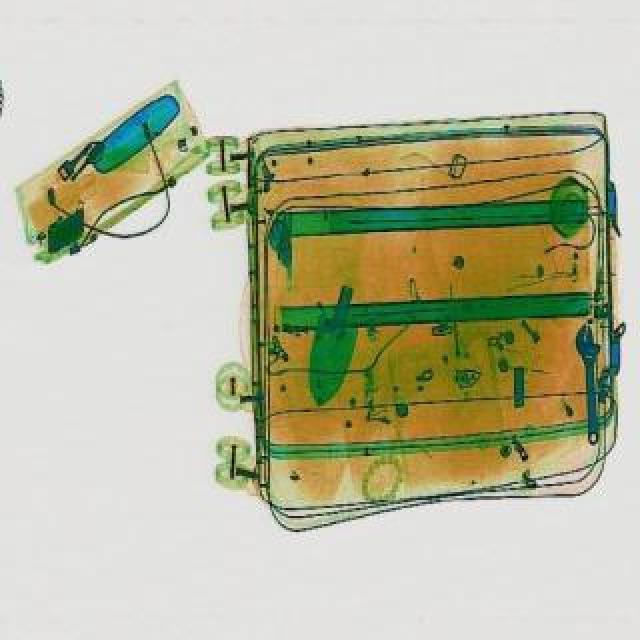knife: (298, 284, 372, 412)
scissors: (576, 328, 608, 450)
